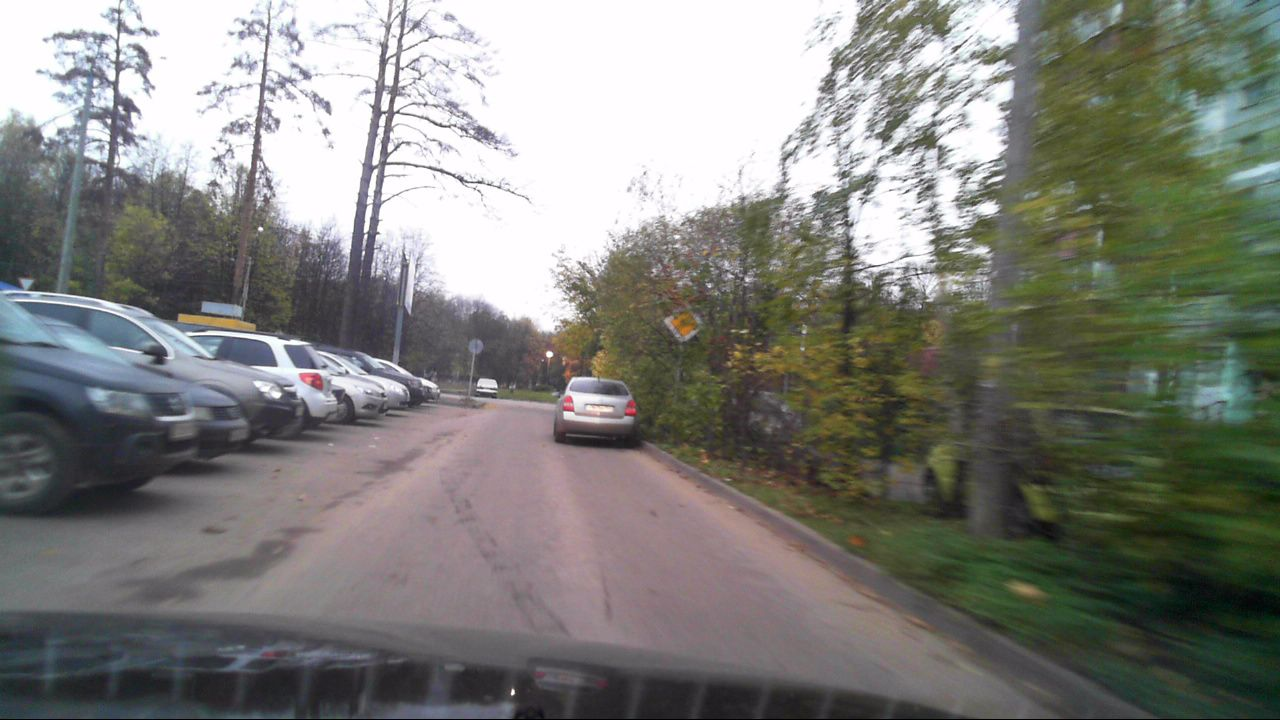main road: (663, 302, 706, 343)
